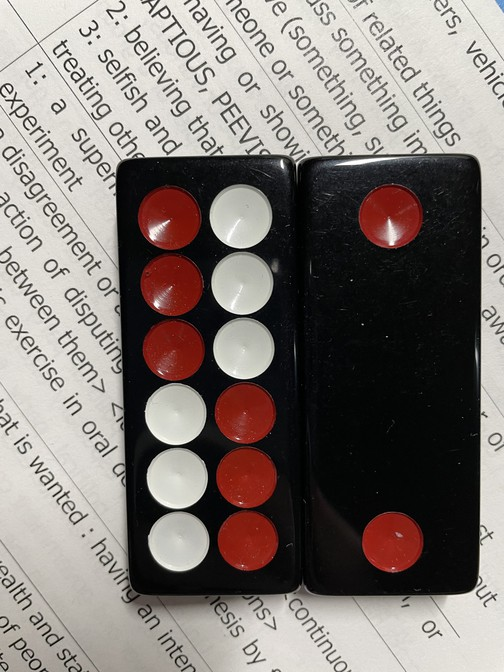earth: (295, 154, 479, 595)
heaven: (113, 154, 303, 592)
